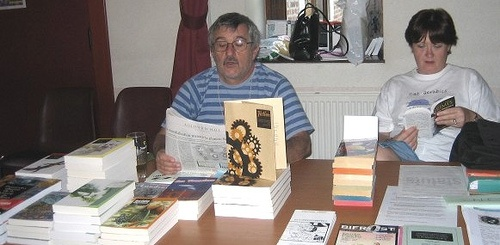head: (202, 7, 262, 85), (409, 8, 456, 75)
person: (152, 7, 313, 179), (370, 5, 499, 166)
